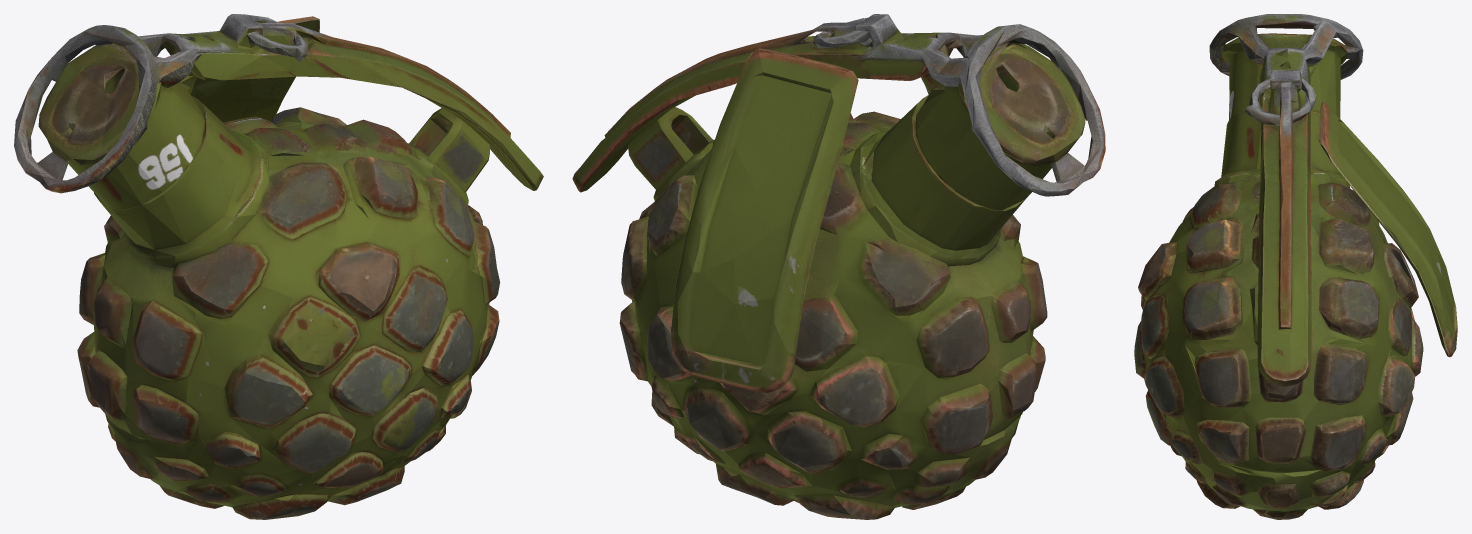
3 renders of one model, left to right at view 1: azimuth 30°, elevation 25°; view 2: azimuth 150°, elevation 25°; view 3: azimuth 270°, elevation 25°, orthographic. The views are drawn at different scales.
Size of the model in its own units: 1.9 by 1.82 by 1.27.
1 material, 1 textured.
